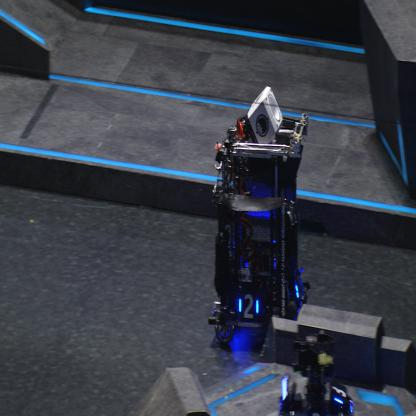car: (208, 110, 310, 346), (277, 332, 355, 416)
